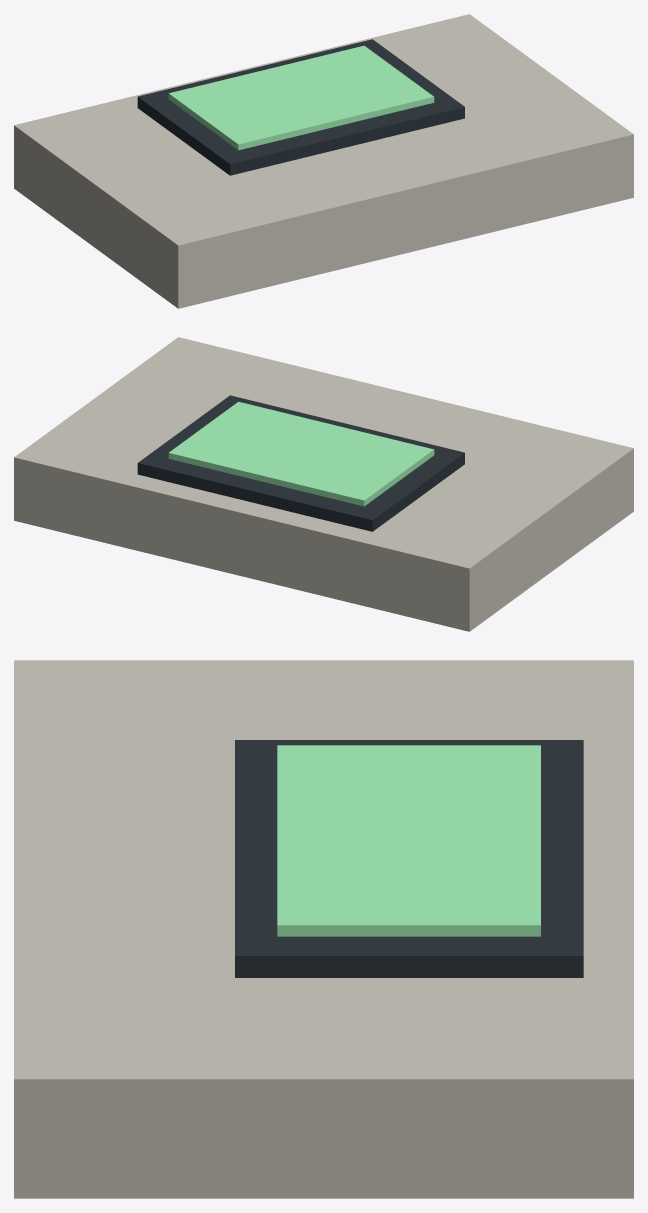
Rendered from handheld-lod2.glb.
3 views of the same model, one above another, from view 1: azimuth 30°, elevation 25°; view 2: azimuth 150°, elevation 25°; view 3: azimuth 270°, elevation 25° (orthographic). The views are drawn at different scales.
Visible parts, largest first — view 1: body, screen, screen_frame; view 2: body, screen, screen_frame; view 3: body, screen, screen_frame.
Part boxes in pixels (x1,y1,x2,y2): body: (14,14,633,308); screen: (168,45,434,150); screen_frame: (137,39,464,175); body: (14,337,633,631); screen: (168,401,434,506); screen_frame: (137,395,464,531); body: (14,660,633,1198); screen: (277,745,540,936); screen_frame: (235,740,583,977).
Bounding box in the file's own units: 6.4 × 1.1 × 4.
